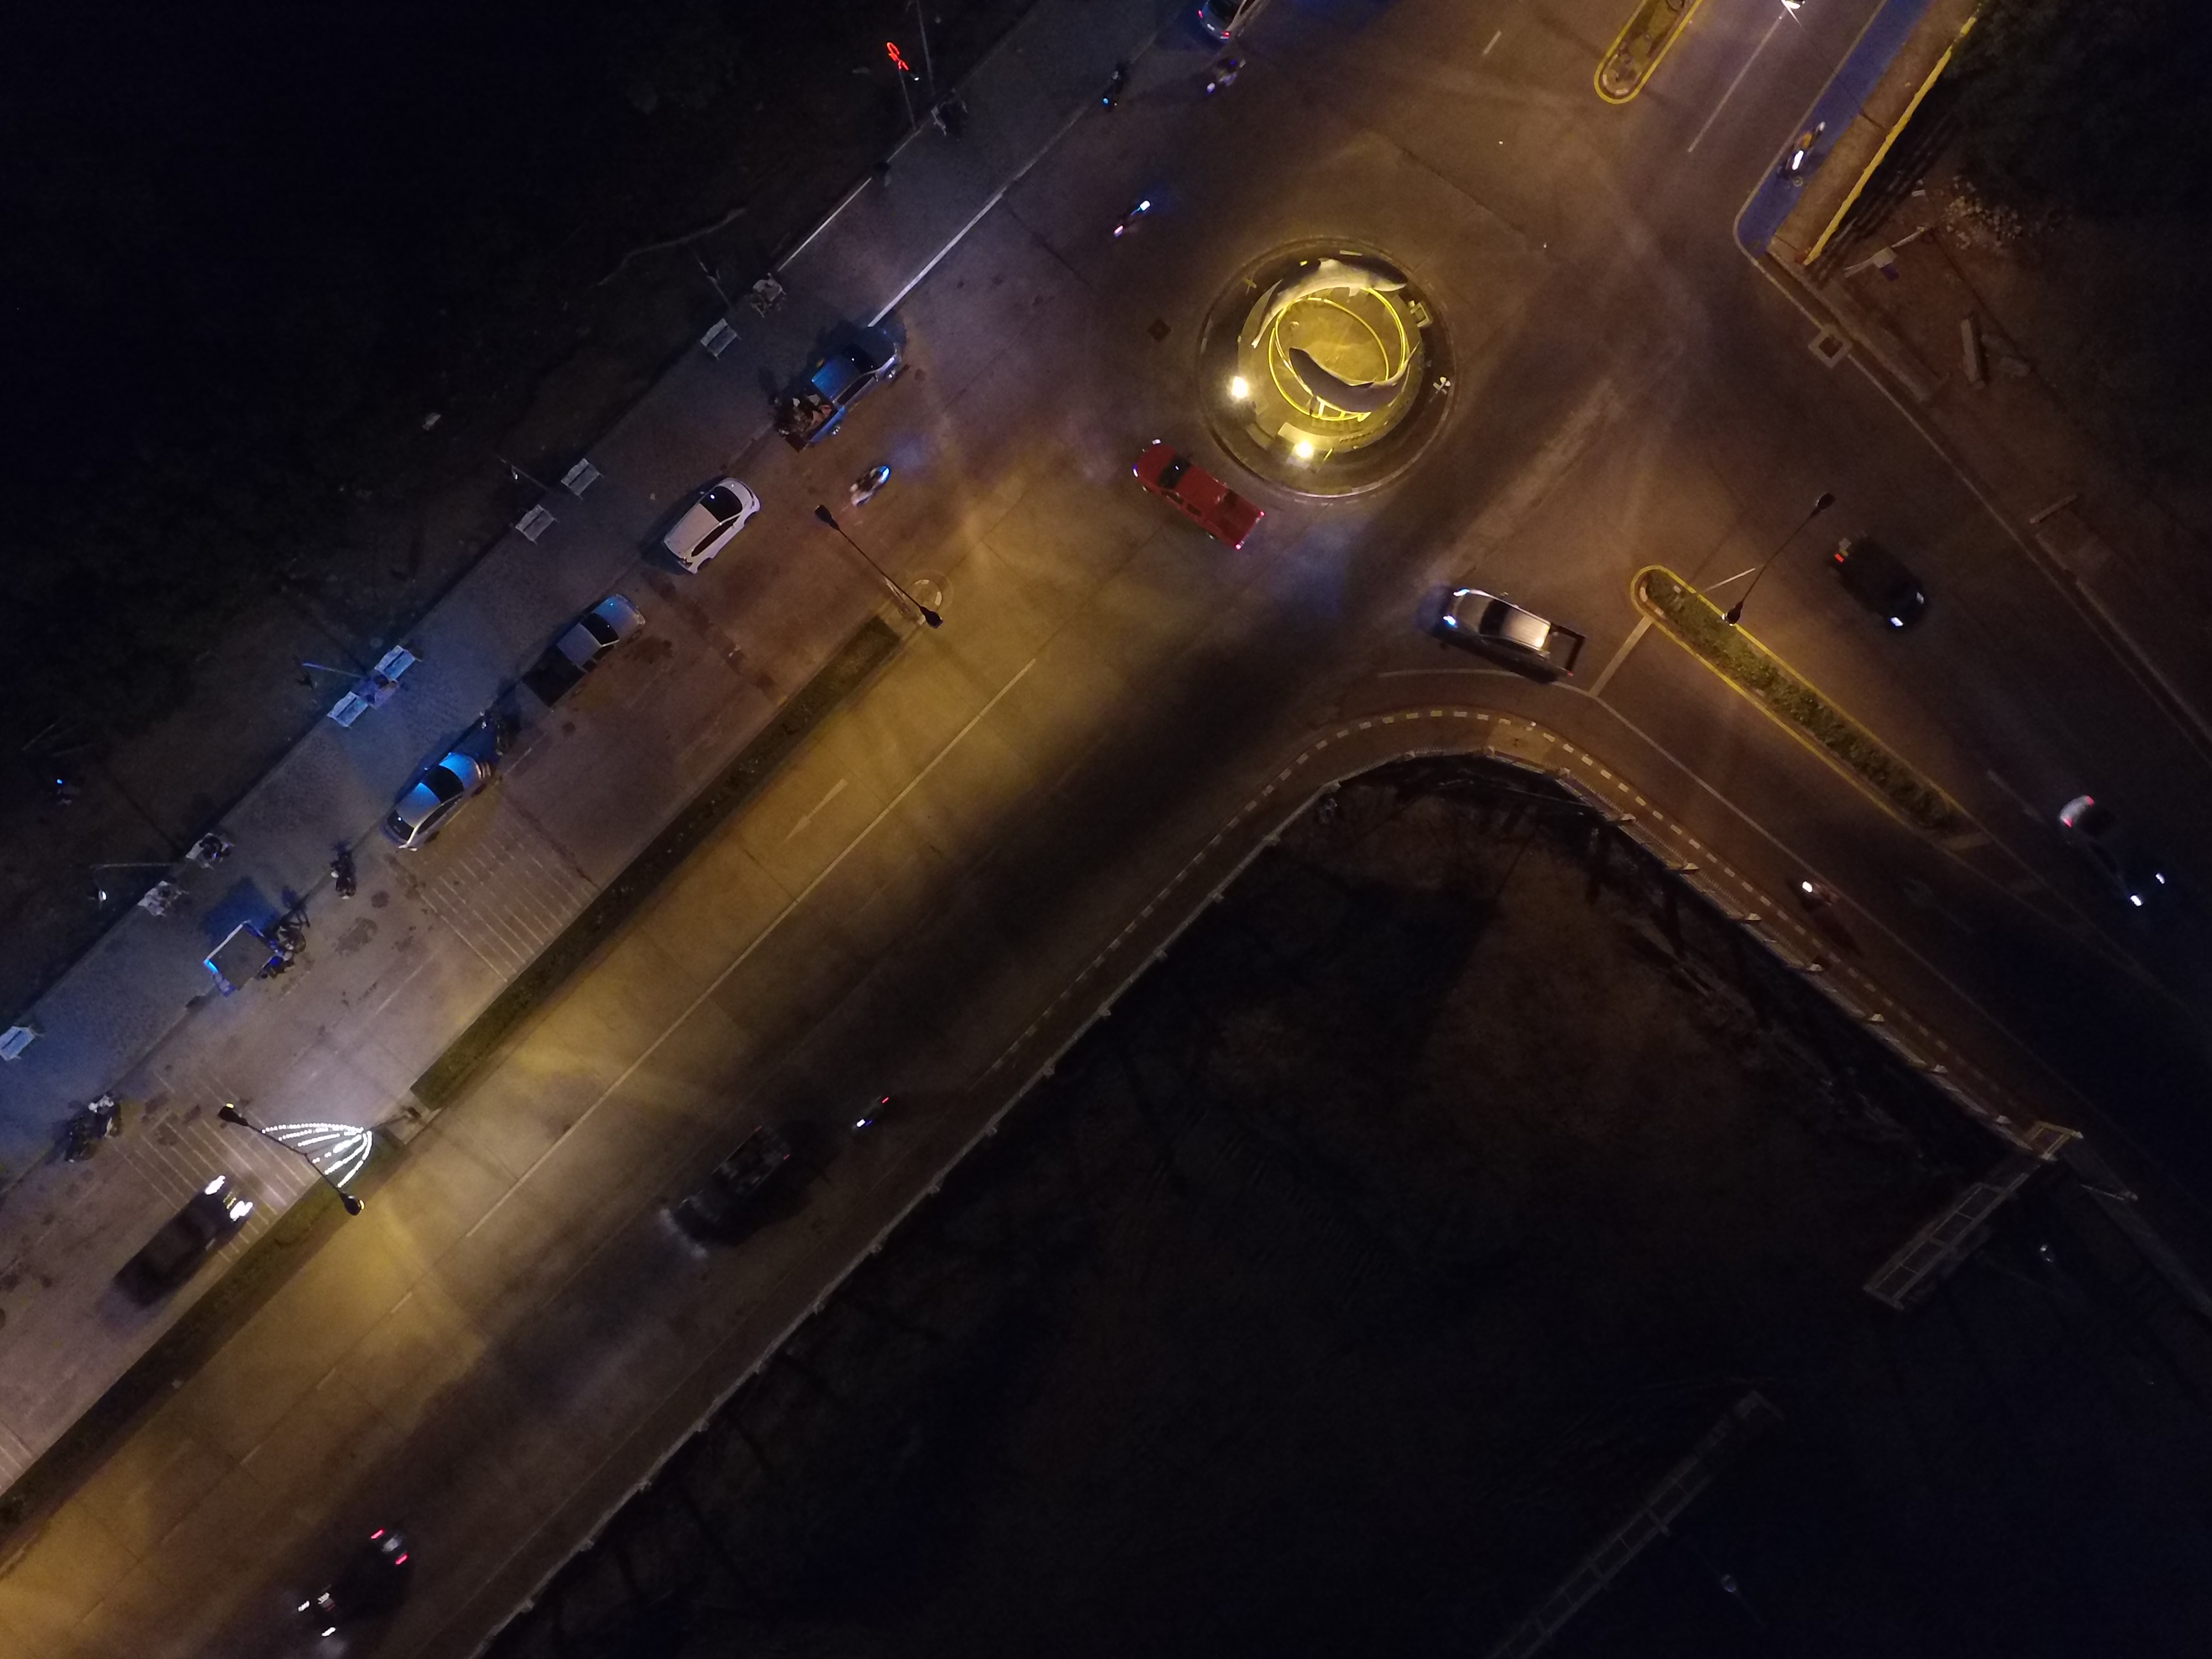car: (758, 305, 923, 441), (1416, 573, 1581, 697), (1109, 437, 1273, 561), (650, 1121, 806, 1248), (643, 464, 779, 592), (516, 586, 651, 713), (357, 732, 493, 859), (1806, 528, 1946, 648)
